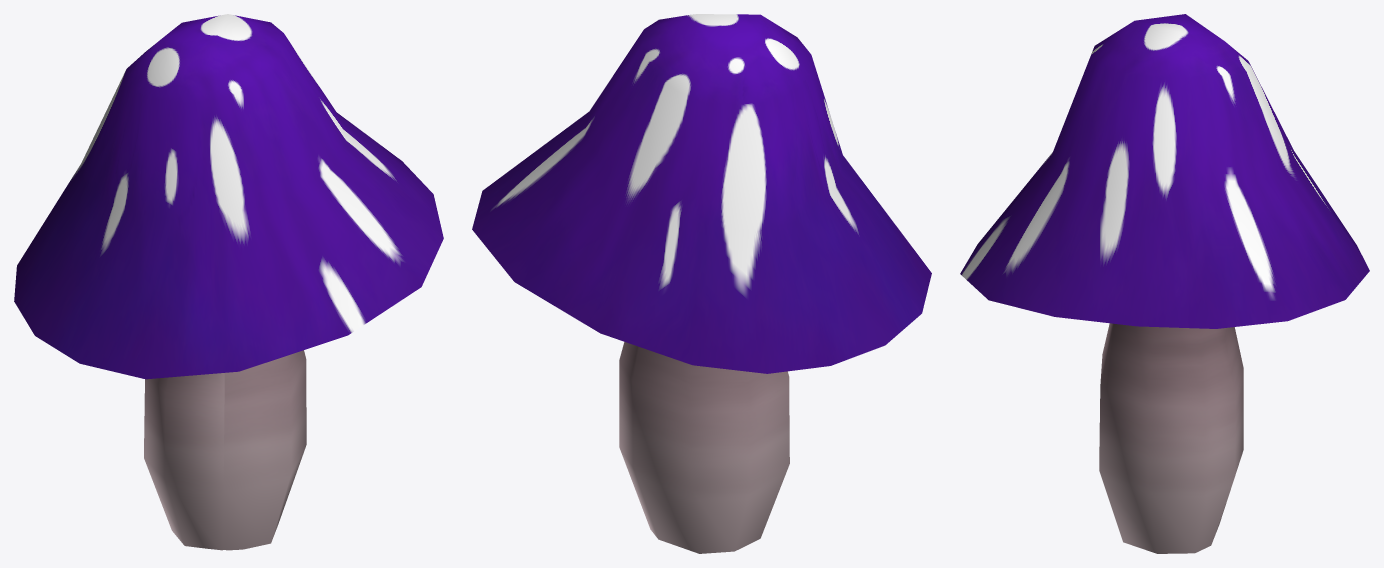
Rendered from Mushroom06.FBX.
The picture shows the model from 3 angles, left to right: view 1: azimuth 30°, elevation 25°; view 2: azimuth 150°, elevation 25°; view 3: azimuth 270°, elevation 25°; orthographic projection. The views are drawn at different scales.
Visible parts, largest first — view 1: Mushroom05; view 2: Mushroom05; view 3: Mushroom05.
Part boxes in pixels (x1,y1,x2,y2): Mushroom05: [14, 14, 443, 550]; Mushroom05: [472, 14, 931, 553]; Mushroom05: [960, 14, 1369, 553].
Bounding box in the file's own units: 1.12 × 1.43 × 1.06.
